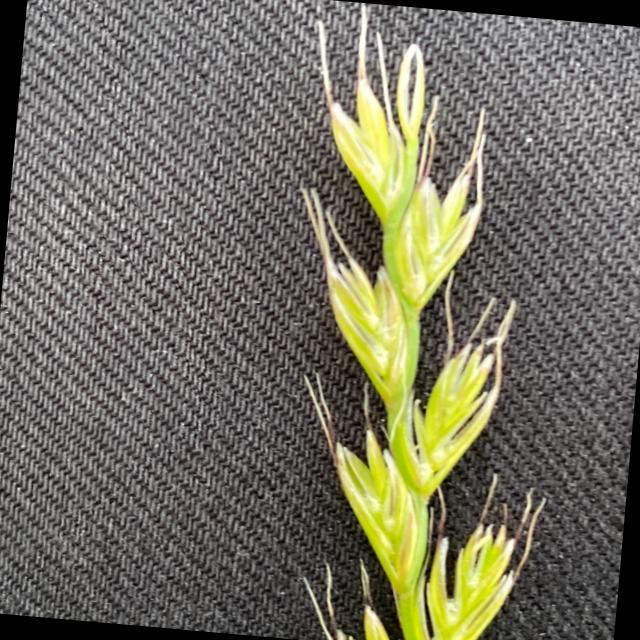Lolium: (252, 0, 592, 640)
